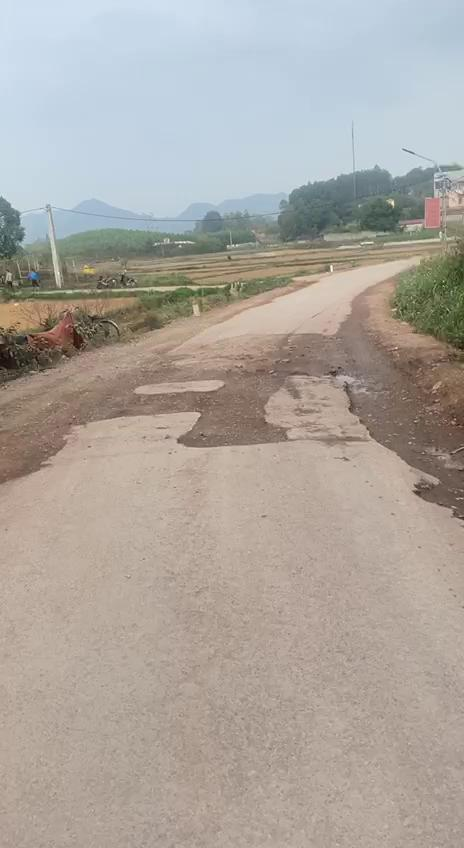pothole: (168, 384, 291, 451)
